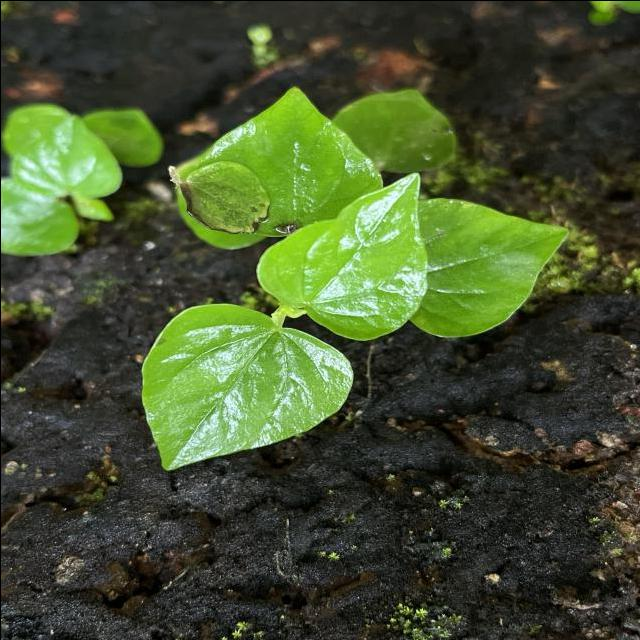Peperomia pellucida: (253, 168, 433, 342)
